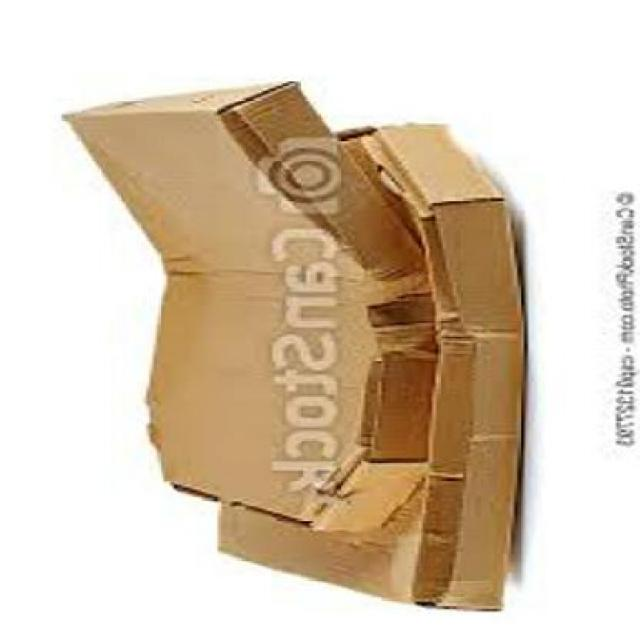defect: (51, 82, 424, 540)
